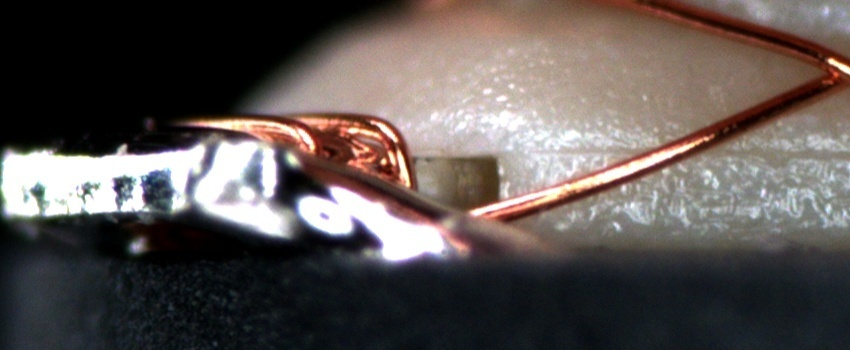CL: (797, 42, 850, 99)
DL: (534, 122, 850, 179)
TE: (176, 107, 424, 198)
